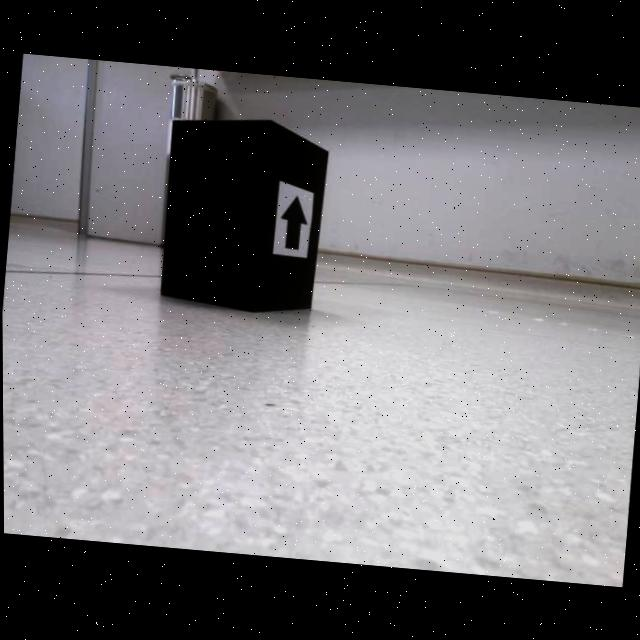UP: (279, 195, 308, 251)
